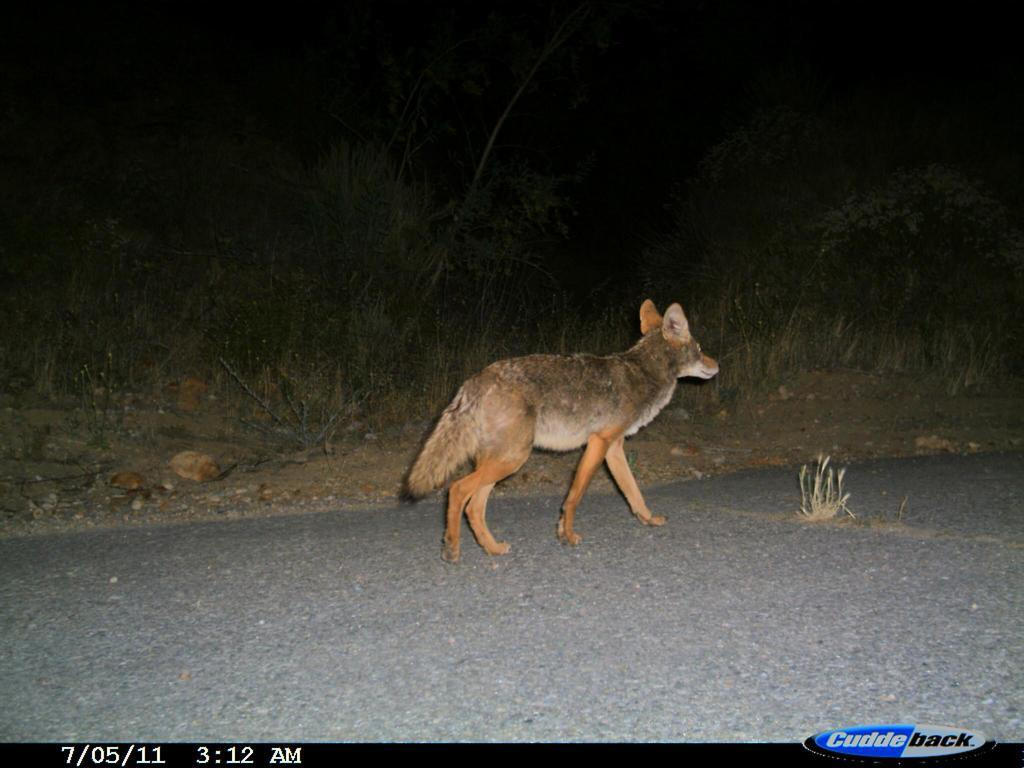coyote: (387, 287, 726, 568)
